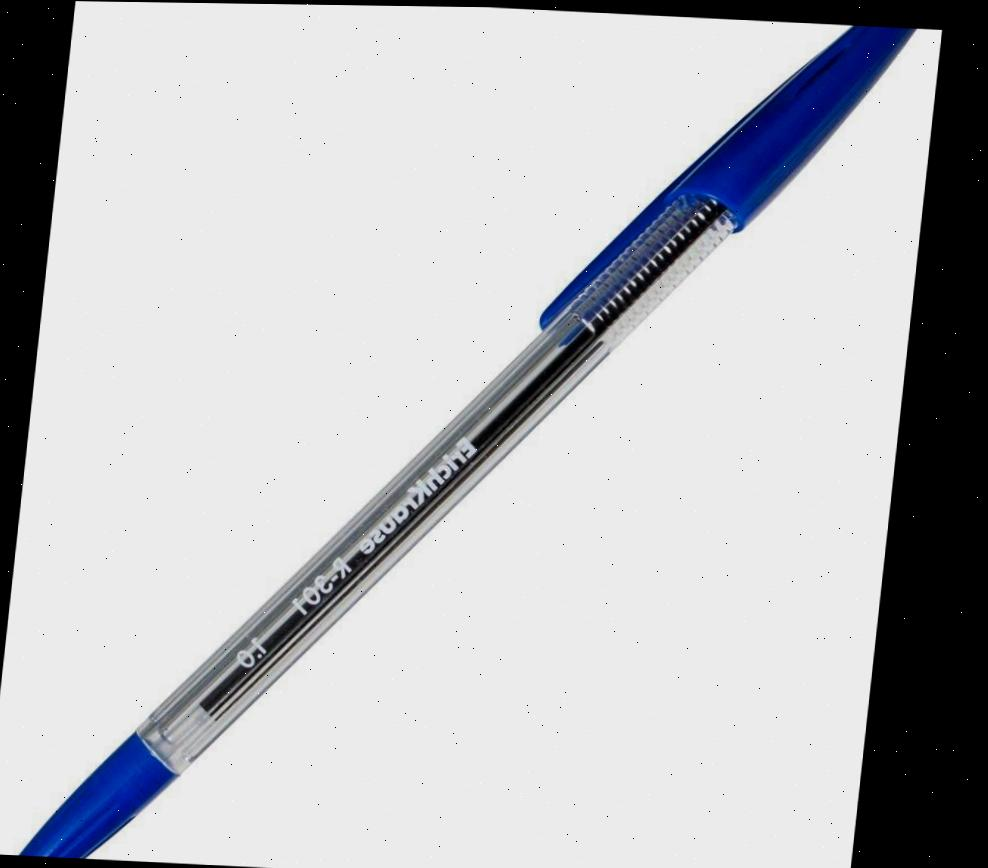pen-pencil: (18, 25, 914, 858)
